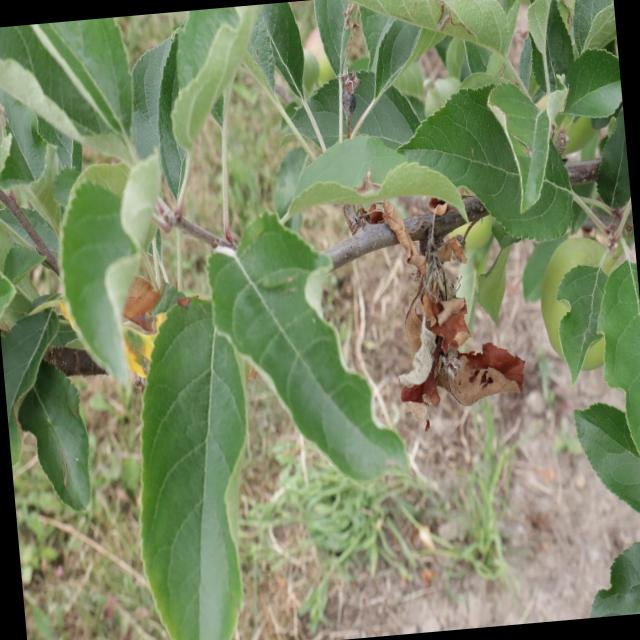-FireBlight-: (348, 188, 534, 413)
